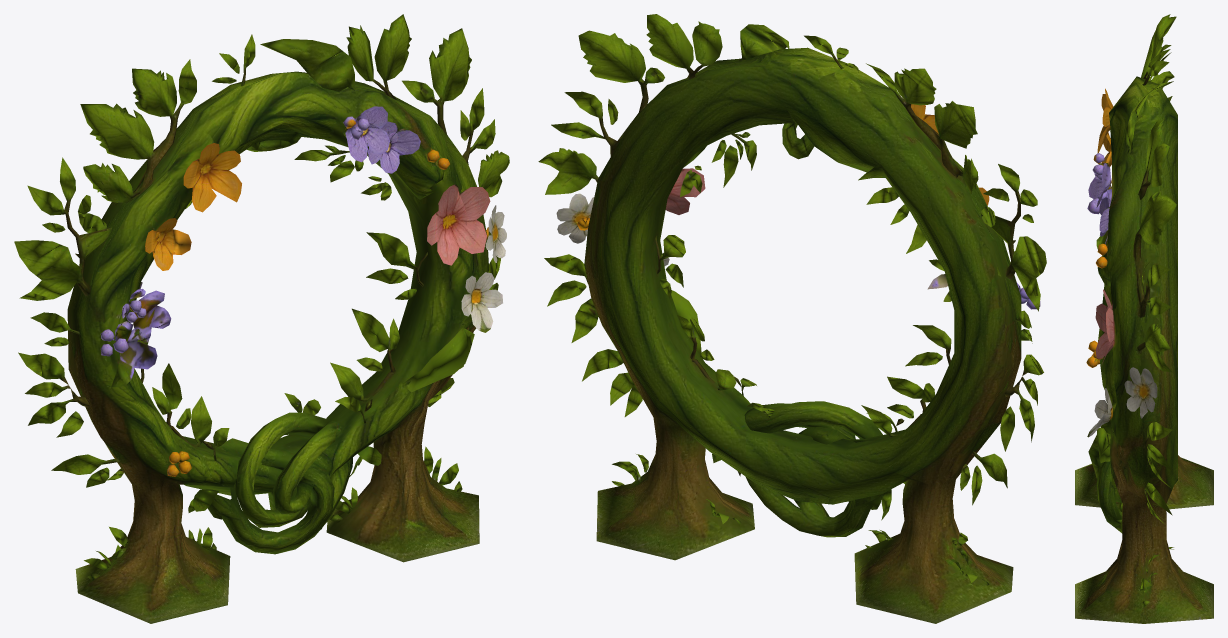
File: selected.glb
3 renders of one model, left to right at view 1: azimuth 30°, elevation 25°; view 2: azimuth 150°, elevation 25°; view 3: azimuth 270°, elevation 25°, orthographic. The views are drawn at different scales.
Parts seen in each view (by area): view 1: tripo_node_5ee0309d-c16e-41ea-a93f-6dec677497b6; view 2: tripo_node_5ee0309d-c16e-41ea-a93f-6dec677497b6; view 3: tripo_node_5ee0309d-c16e-41ea-a93f-6dec677497b6.
Part boxes in pixels (x1,y1,x2,y2): tripo_node_5ee0309d-c16e-41ea-a93f-6dec677497b6: [14, 14, 509, 623]; tripo_node_5ee0309d-c16e-41ea-a93f-6dec677497b6: [538, 14, 1046, 623]; tripo_node_5ee0309d-c16e-41ea-a93f-6dec677497b6: [1075, 14, 1213, 623].
Bounding box in the file's own units: 0.998 × 0.998 × 0.2637.
1 material, 1 textured.
